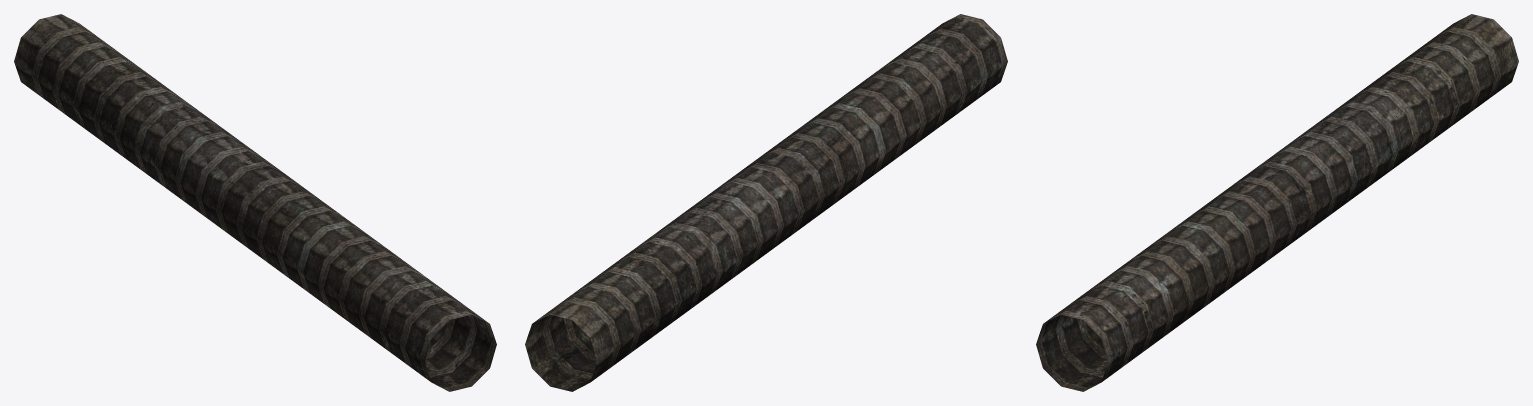
File: leech_cable_long.dae
The picture shows the model from 3 angles, left to right: view 1: azimuth 30°, elevation 25°; view 2: azimuth 150°, elevation 25°; view 3: azimuth 330°, elevation 25°; orthographic projection.
Parts seen in each view (by area): view 1: tentacle_leech_cable_long; view 2: tentacle_leech_cable_long; view 3: tentacle_leech_cable_long.
Boxes of the visible parts, bbox=[...] form: tentacle_leech_cable_long: bbox=[14, 14, 496, 391]; tentacle_leech_cable_long: bbox=[525, 14, 1007, 391]; tentacle_leech_cable_long: bbox=[1036, 14, 1518, 391].
Size of the model in its own units: 0.2031 by 0.1932 by 2.
